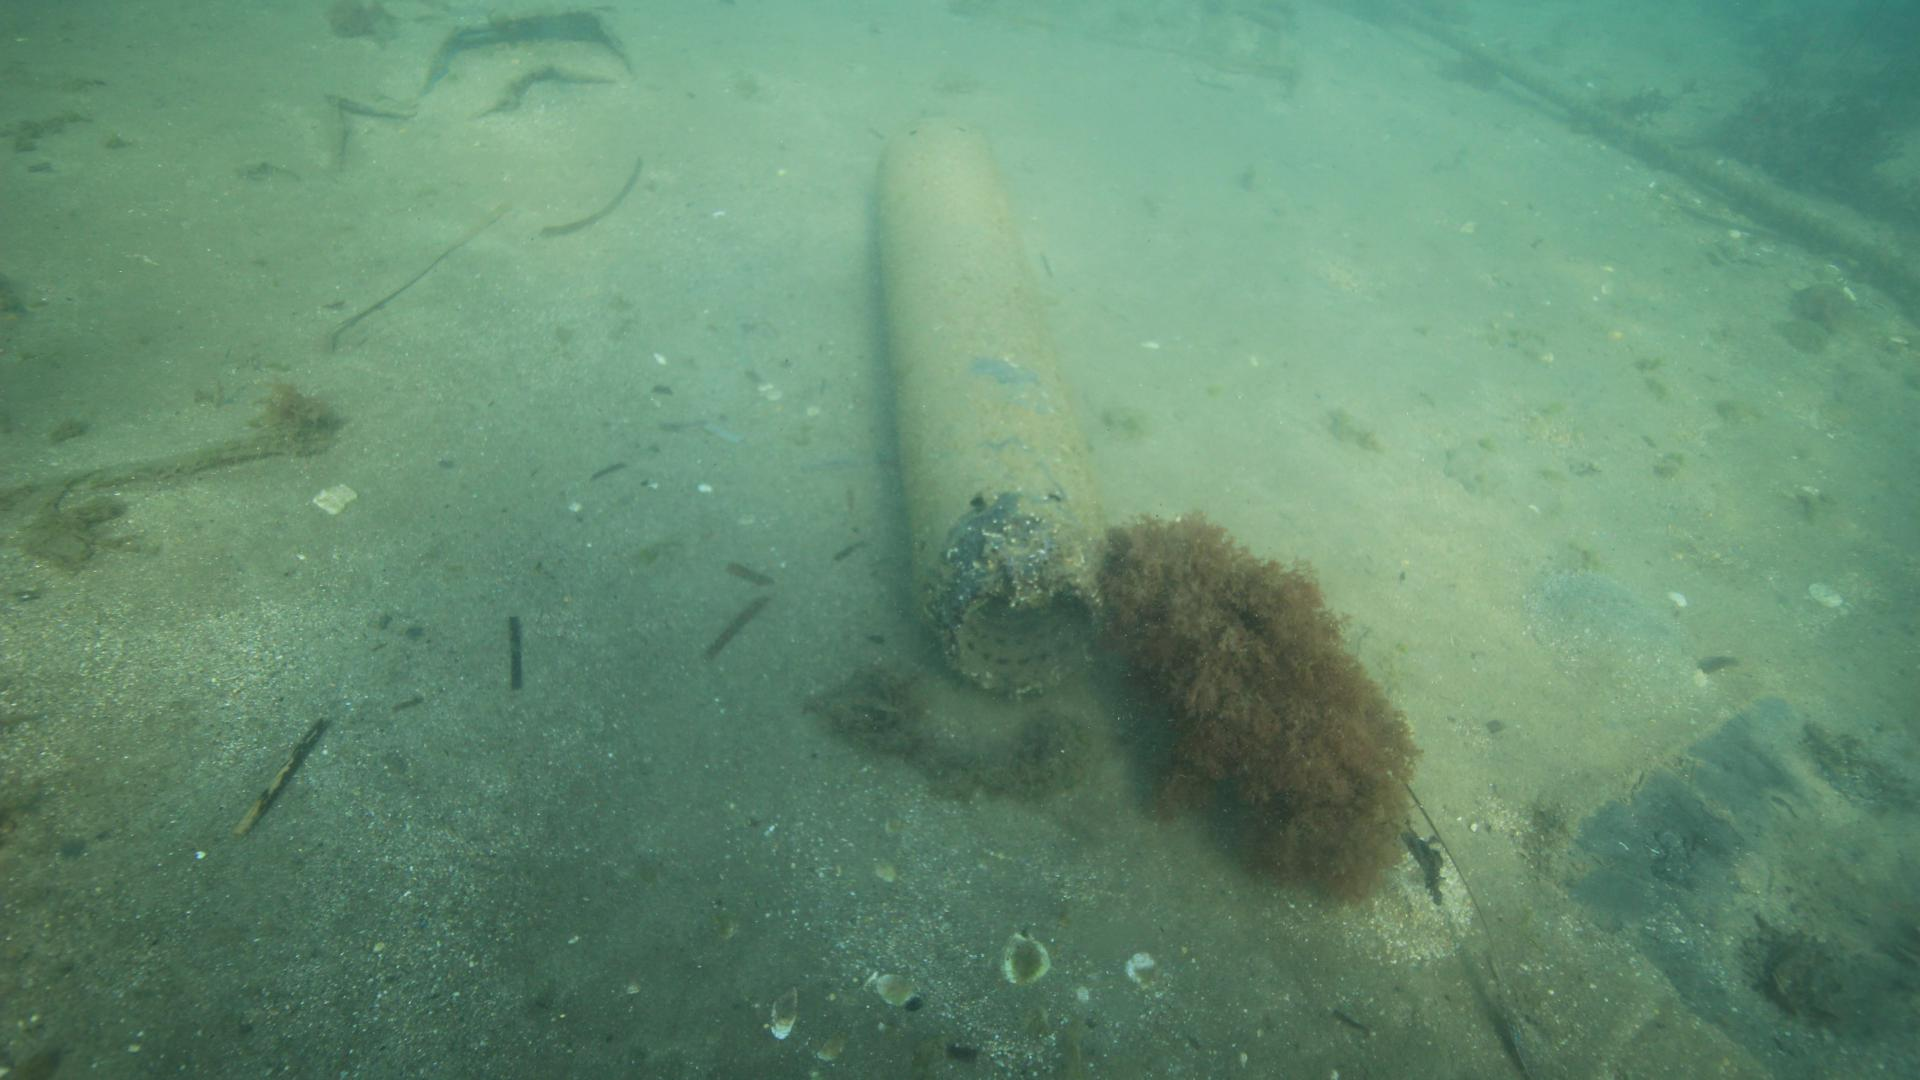eel fish trap: (870, 115, 1109, 704)
rope: (1447, 37, 1920, 313)
